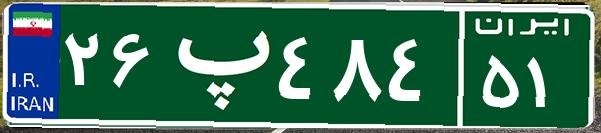1: (525, 38, 570, 115)
2: (57, 26, 110, 107)
4: (385, 28, 445, 110), (273, 28, 330, 110)
5: (475, 38, 525, 113)
6: (110, 28, 158, 105)
8: (330, 28, 385, 110)
پ: (158, 15, 273, 115)
